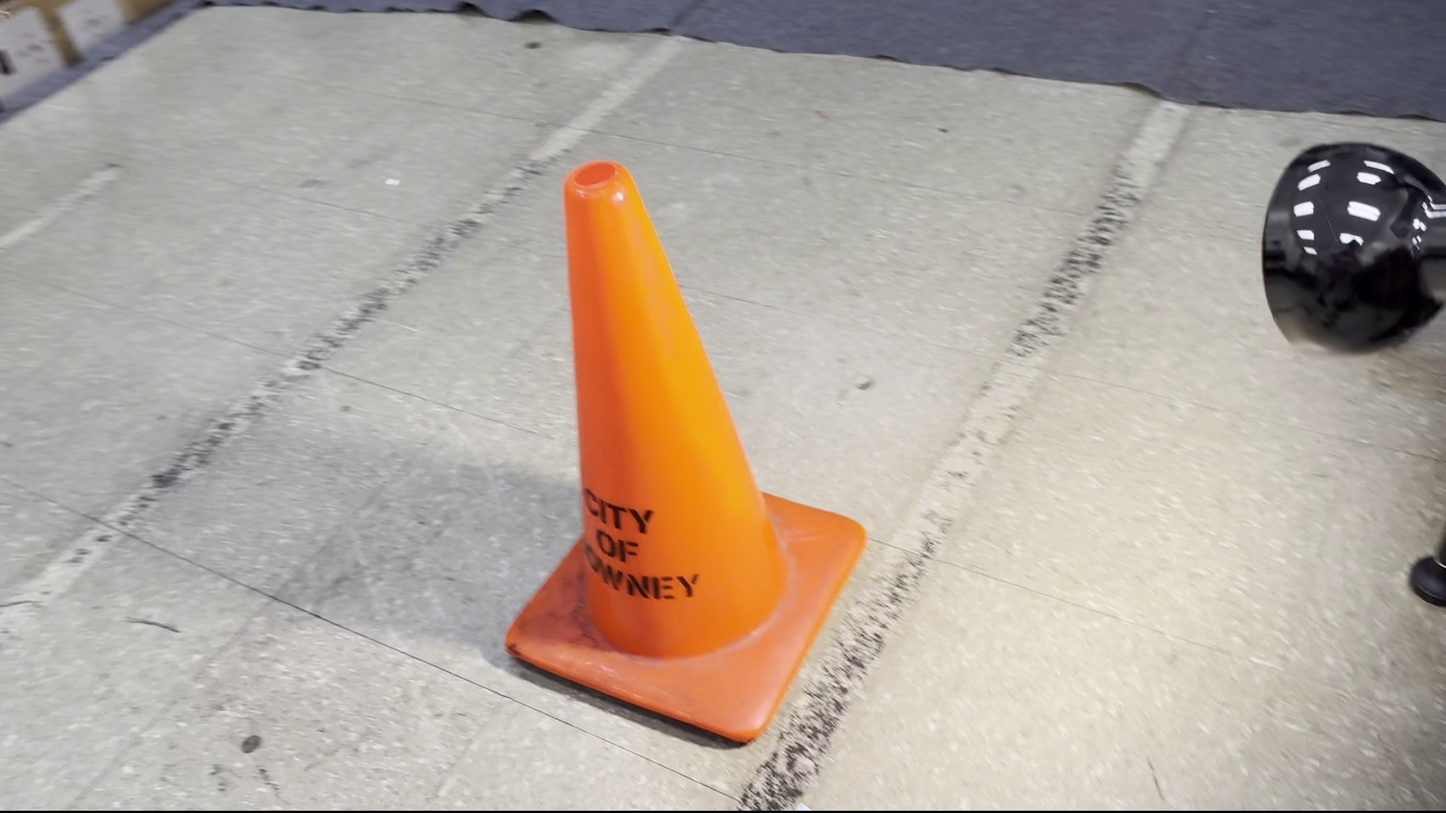traffic_cone: (503, 158, 868, 745)
